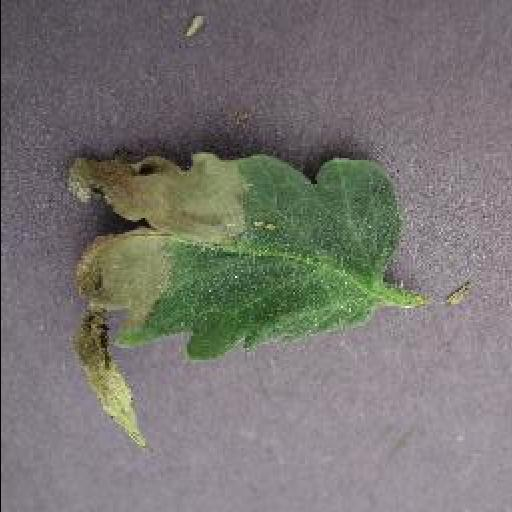disease_tomato: (59, 144, 405, 448)
